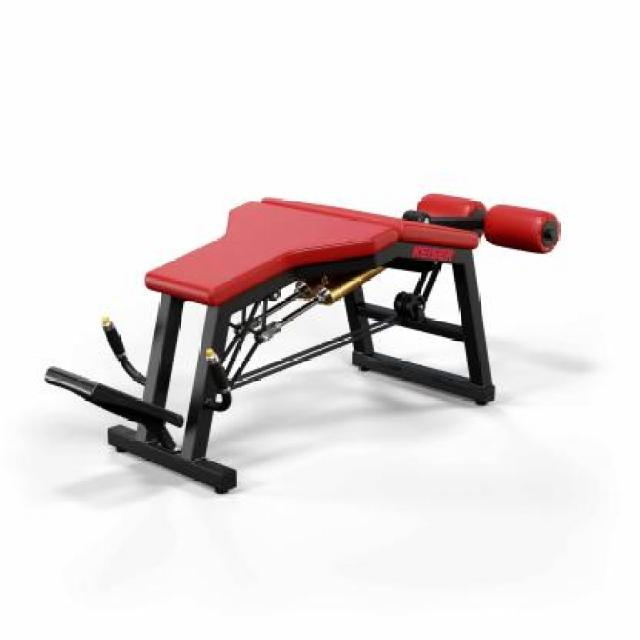reg curl machine: (43, 188, 560, 494)
